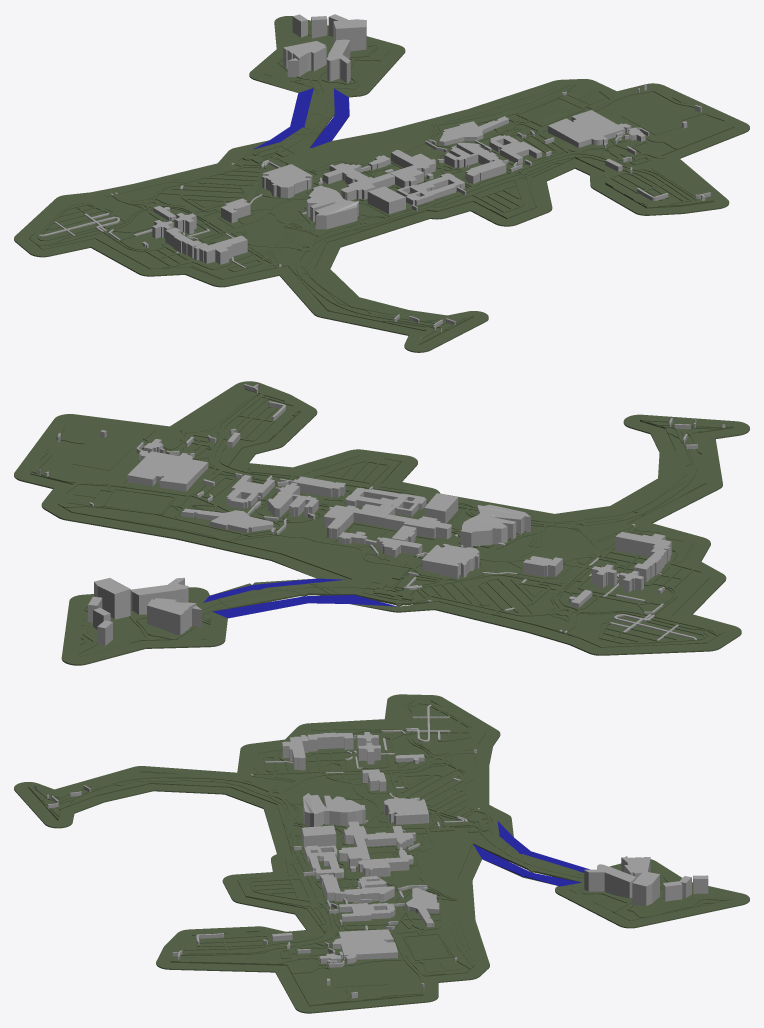
Rendered from ULSEP.fbx.
The picture shows the model from 3 angles, top to bottom: view 1: azimuth 30°, elevation 25°; view 2: azimuth 150°, elevation 25°; view 3: azimuth 270°, elevation 25°; orthographic projection. The views are drawn at different scales.
Visible parts, largest first — view 1: polySurface1, polySurface114, polySurface121, pCube1, polySurface100, polySurface113, polySurface125, polySurface99, polySurface123, polySurface105, polySurface126, polySurface101 (+3 smaller); view 2: polySurface1, polySurface114, polySurface121, pCube1, polySurface100, polySurface125, polySurface113, polySurface99, polySurface123, polySurface126, polySurface124, polySurface101 (+5 smaller); view 3: polySurface1, polySurface114, polySurface121, pCube1, polySurface100, polySurface126, polySurface113, polySurface99, polySurface101, polySurface124, polySurface123, polySurface106 (+2 smaller).
Boxes of the visible parts, left/top/right/bottom form: polySurface1: left=14, top=16, right=749, bottom=352; polySurface114: left=323, top=150, right=435, bottom=200; polySurface121: left=548, top=110, right=631, bottom=147; pCube1: left=306, top=185, right=358, bottom=229; polySurface100: left=444, top=142, right=506, bottom=183; polySurface113: left=262, top=164, right=312, bottom=198; polySurface125: left=283, top=41, right=326, bottom=77; polySurface99: left=396, top=173, right=464, bottom=205; polySurface123: left=439, top=116, right=508, bottom=145; polySurface105: left=199, top=235, right=247, bottom=264; polySurface126: left=326, top=39, right=350, bottom=83; polySurface101: left=489, top=135, right=541, bottom=164; polySurface1: left=14, top=381, right=749, bottom=665; polySurface114: left=323, top=503, right=451, bottom=557; polySurface121: left=127, top=450, right=208, bottom=491; pCube1: left=460, top=504, right=530, bottom=547; polySurface100: left=268, top=476, right=345, bottom=517; polySurface125: left=147, top=598, right=202, bottom=635; polySurface113: left=422, top=543, right=479, bottom=578; polySurface99: left=345, top=487, right=426, bottom=516; polySurface123: left=181, top=508, right=273, bottom=533; polySurface126: left=130, top=577, right=188, bottom=614; polySurface124: left=94, top=578, right=130, bottom=619; polySurface101: left=226, top=475, right=274, bottom=508; polySurface1: left=14, top=694, right=749, bottom=1013; polySurface114: left=338, top=821, right=415, bottom=876; polySurface121: left=332, top=929, right=397, bottom=963; pCube1: left=303, top=793, right=365, bottom=826; polySurface100: left=319, top=874, right=394, bottom=902; polySurface126: left=584, top=864, right=635, bottom=898; polySurface113: left=384, top=797, right=428, bottom=824; polySurface99: left=304, top=845, right=343, bottom=878; polySurface101: left=339, top=903, right=395, bottom=921; polySurface124: left=632, top=871, right=659, bottom=905; polySurface123: left=406, top=887, right=439, bottom=927; polySurface106: left=307, top=732, right=353, bottom=751.
Size of the model in its own units: 1560 by 71.17 by 1525.
